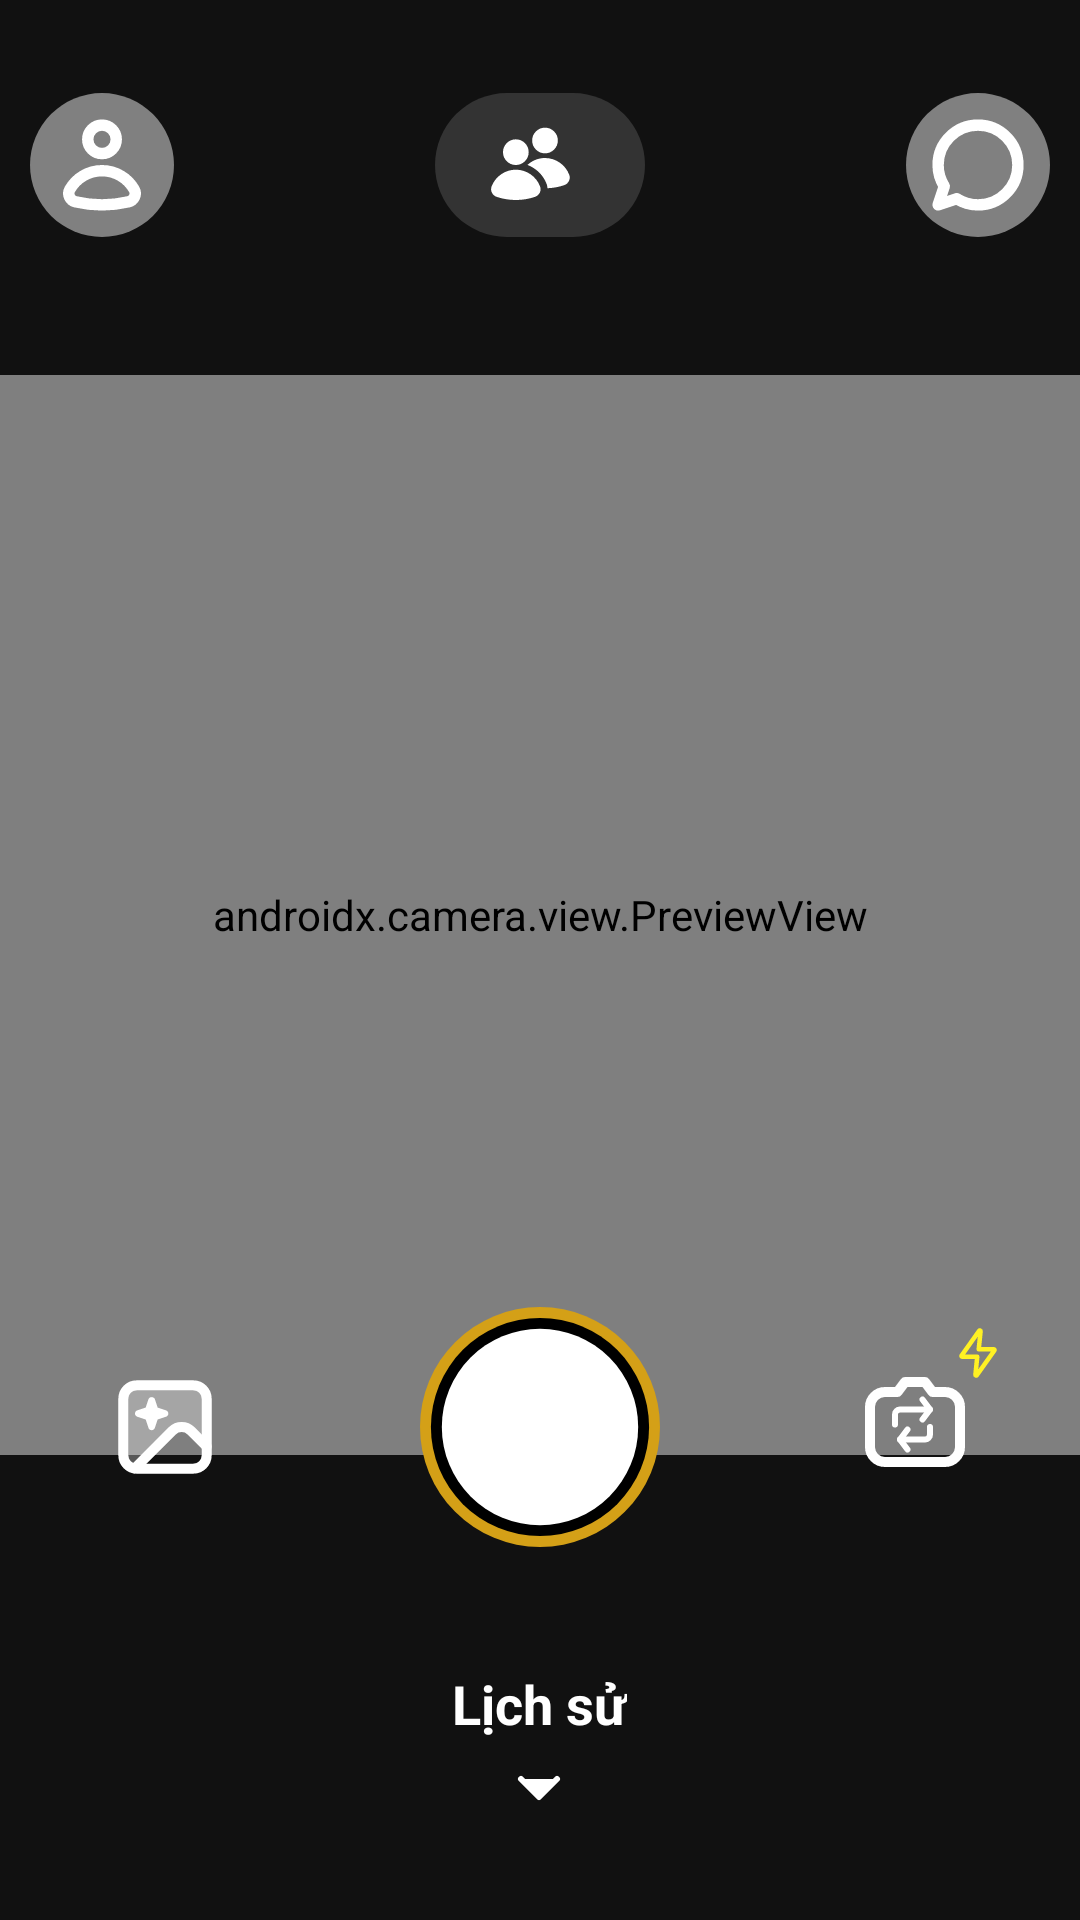

Named icons in this screenshot (1080x1920) and their centers, (x=x, y=y):
arrow down: (x=539, y=1788)
capture: (x=540, y=1427)
chat: (x=978, y=165)
Flash Icon: (x=978, y=1353)
friends: (x=530, y=163)
profile: (x=102, y=165)
switch camera: (x=915, y=1427)
upload: (x=165, y=1433)
